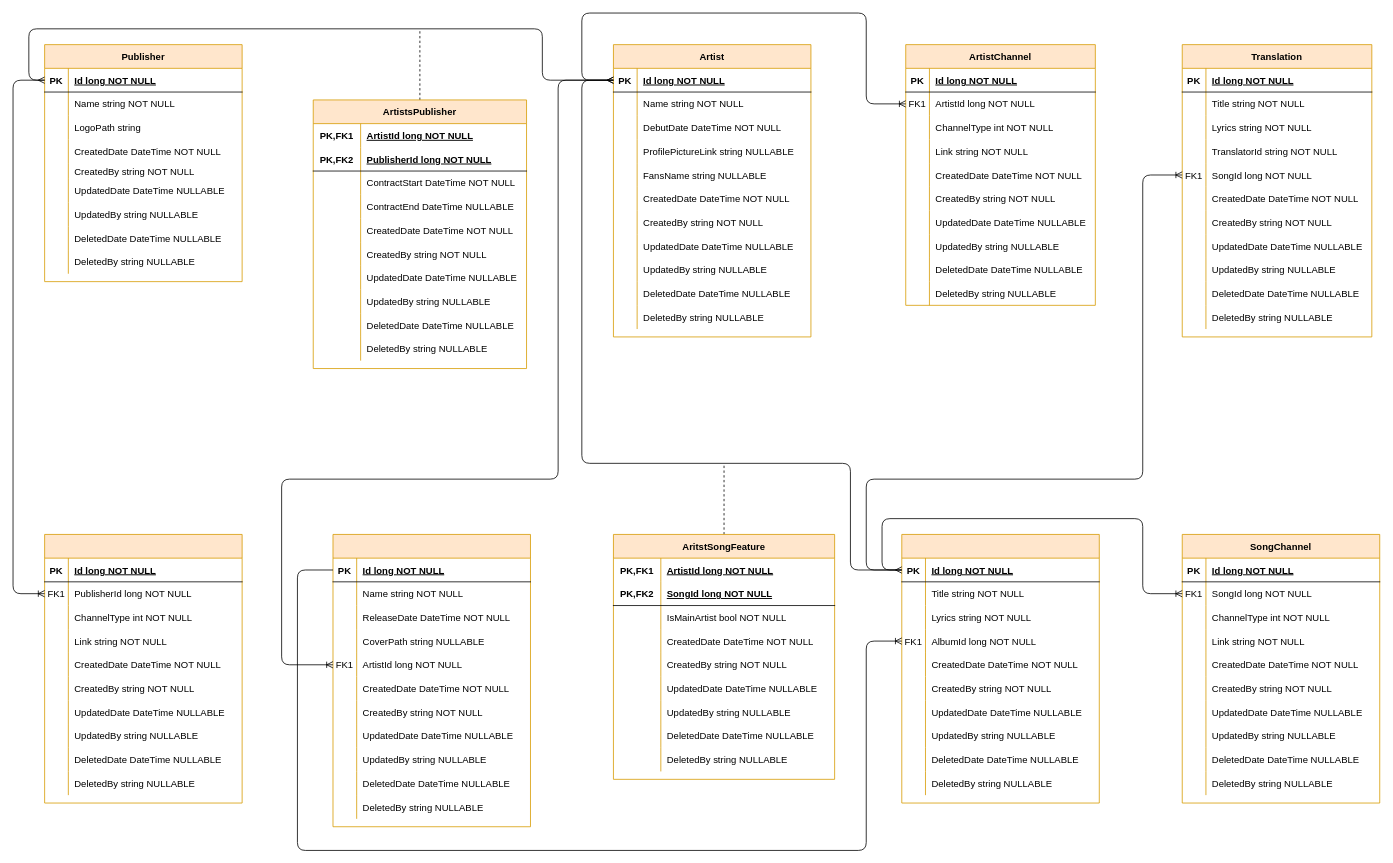
This 1393x863 diagram has some shape labels left out. The box of each missing label's shape, as (x1, y1, x2, y2) in pixels:
Album: (332, 534, 530, 827)
PublisherChannel: (44, 534, 242, 803)
Song: (901, 534, 1099, 803)
